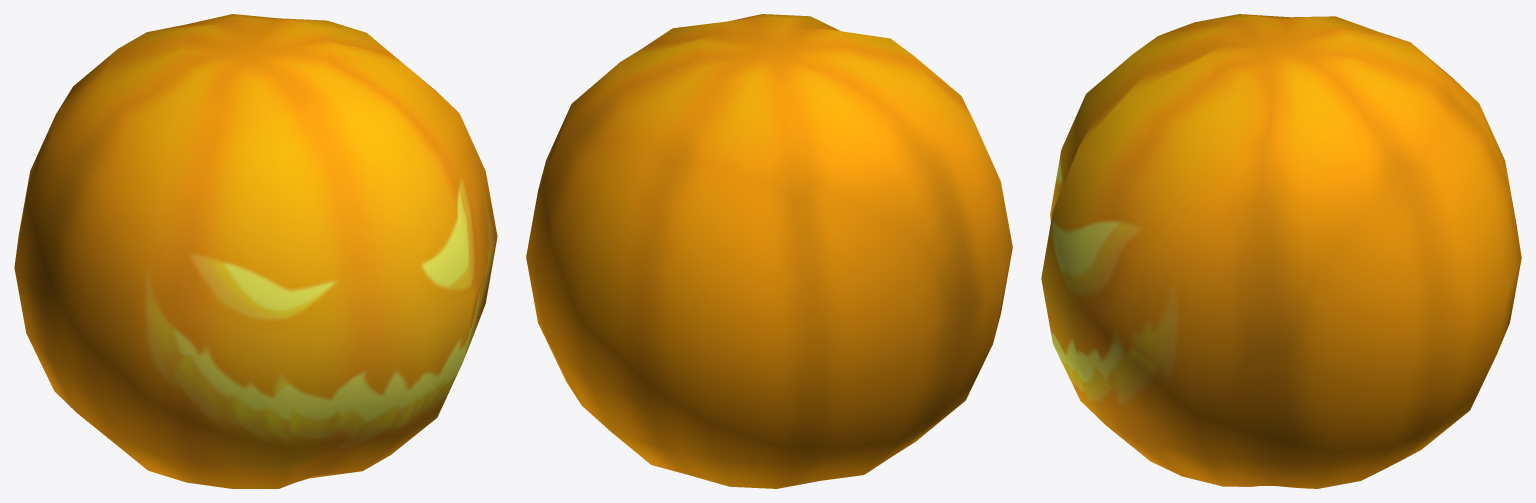
Rendered from 57_Ball_Pumpkin.fbx.
3 views of the same model, side by side, from view 1: azimuth 30°, elevation 25°; view 2: azimuth 150°, elevation 25°; view 3: azimuth 270°, elevation 25° (orthographic).
Visible parts, largest first — view 1: Ball_Pumpkin; view 2: Ball_Pumpkin; view 3: Ball_Pumpkin.
Boxes of the visible parts, bbox=[...] form: Ball_Pumpkin: bbox=[14, 14, 497, 488]; Ball_Pumpkin: bbox=[526, 14, 1012, 488]; Ball_Pumpkin: bbox=[1041, 14, 1521, 488].
Size of the model in its own units: 0.3734 by 0.3511 by 0.3733.
